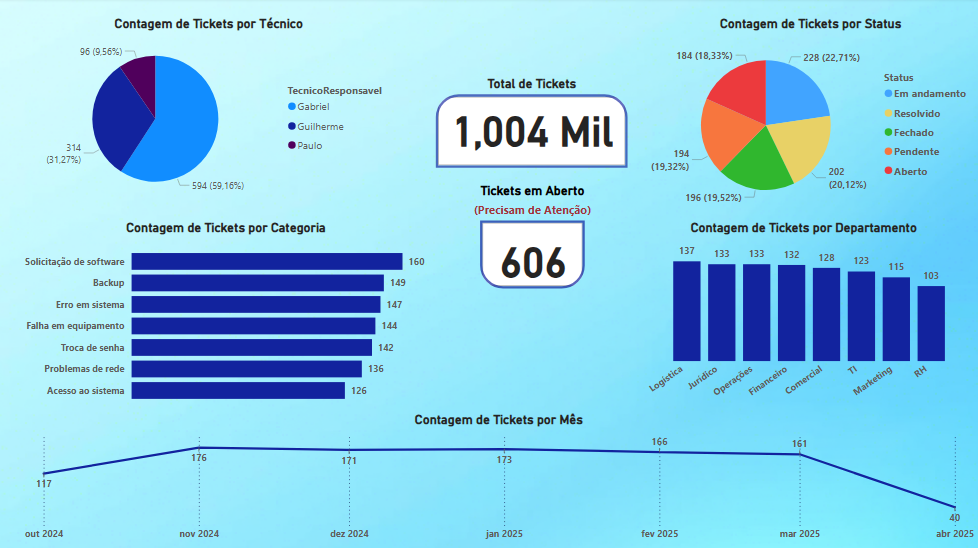

What the dashboard file says about the page in this screenshot:
{"tool":"powerbi","page":{"name":"Dashboard","canvas":[1280,720],"ordinal":0},"visuals":[{"type":"pieChart","title":"Contagem de Tickets por Status","fields":{"Category":["chamados.Status"],"Y":["CountNonNull(chamados.IDChamado)"]},"box":[843.7,23.4,436.3,267],"z":0},{"type":"pieChart","title":"Contagem de Tickets por Técnico","fields":{"Category":["chamados.TecnicoResponsavel"],"Y":["CountNonNull(chamados.IDChamado)"]},"box":[26.2,23.4,494.1,250.5],"z":1},{"type":"clusteredBarChart","title":"Contagem de Tickets por Categoria","fields":{"Category":["chamados.Categoria"],"Y":["Count(chamados.IDChamado)"]},"box":[26.2,290.4,494.1,251.9],"z":2},{"type":"cardVisual","title":"Total de Tickets","fields":{"Data":["Count(chamados.IDChamado)"]},"box":[565.7,101.8,261.5,125.2],"z":3},{"type":"cardVisual","title":"Tickets em Aberto","fields":{"Data":["Count(chamados.IDChamado)"]},"box":[602.8,242.2,187.2,143.1],"z":4},{"type":"lineChart","title":"Contagem de Tickets por Mês","fields":{"Category":["chamados.DataAbertura.Variation.Hierarquia de datas.Ano","chamados.DataAbertura.Variation.Hierarquia de datas.Mês"],"Y":["CountNonNull(chamados.IDChamado)"]},"box":[26.2,542.3,1253.8,177.5],"z":5},{"type":"columnChart","title":"Contagem de Tickets por Departamento","fields":{"Category":["chamados.Departamento"],"Y":["CountNonNull(chamados.IDChamado)"]},"box":[843.7,290.4,418.4,251.9],"z":6}]}

Visuals, with their boxes in screenshot pixels (x1, y1, x2, y2), scaled from the page's 1280x720 canvas onto the 978x548 screenshot:
"Contagem de Tickets por Status" pieChart: [x1=645, y1=18, x2=977, y2=221]
"Contagem de Tickets por Técnico" pieChart: [x1=20, y1=18, x2=398, y2=208]
"Contagem de Tickets por Categoria" clusteredBarChart: [x1=20, y1=221, x2=398, y2=413]
"Total de Tickets" cardVisual: [x1=432, y1=77, x2=632, y2=173]
"Tickets em Aberto" cardVisual: [x1=461, y1=184, x2=604, y2=293]
"Contagem de Tickets por Mês" lineChart: [x1=20, y1=413, x2=977, y2=547]
"Contagem de Tickets por Departamento" columnChart: [x1=645, y1=221, x2=964, y2=413]
